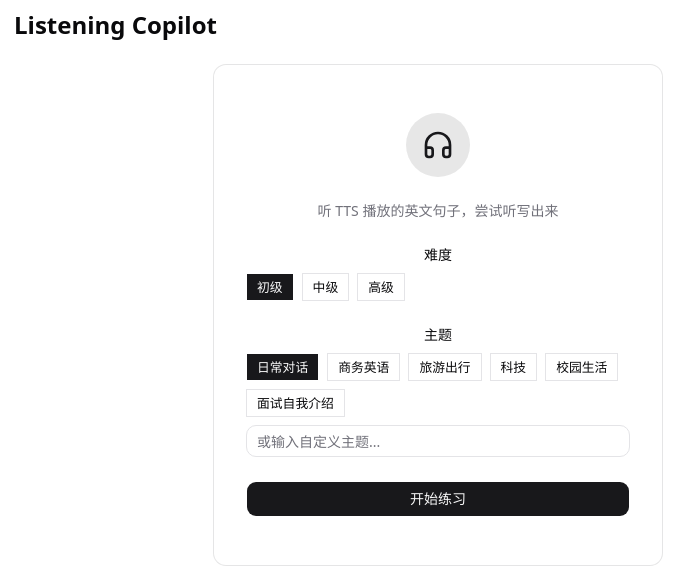
Test: ListeningPage › shows retry button after error
Click the button "开始练习". click: (438, 499)
box: left=246, top=481, right=630, bottom=517
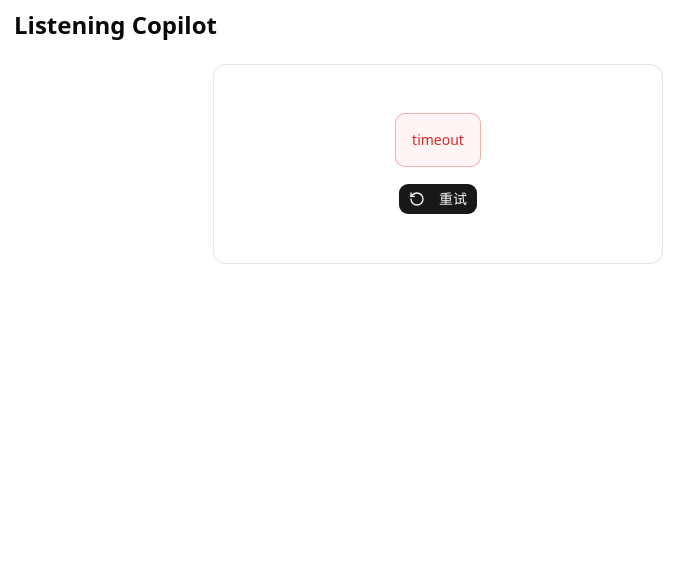
Result: the button "重试" is shown at left=398, top=183, right=478, bottom=215
